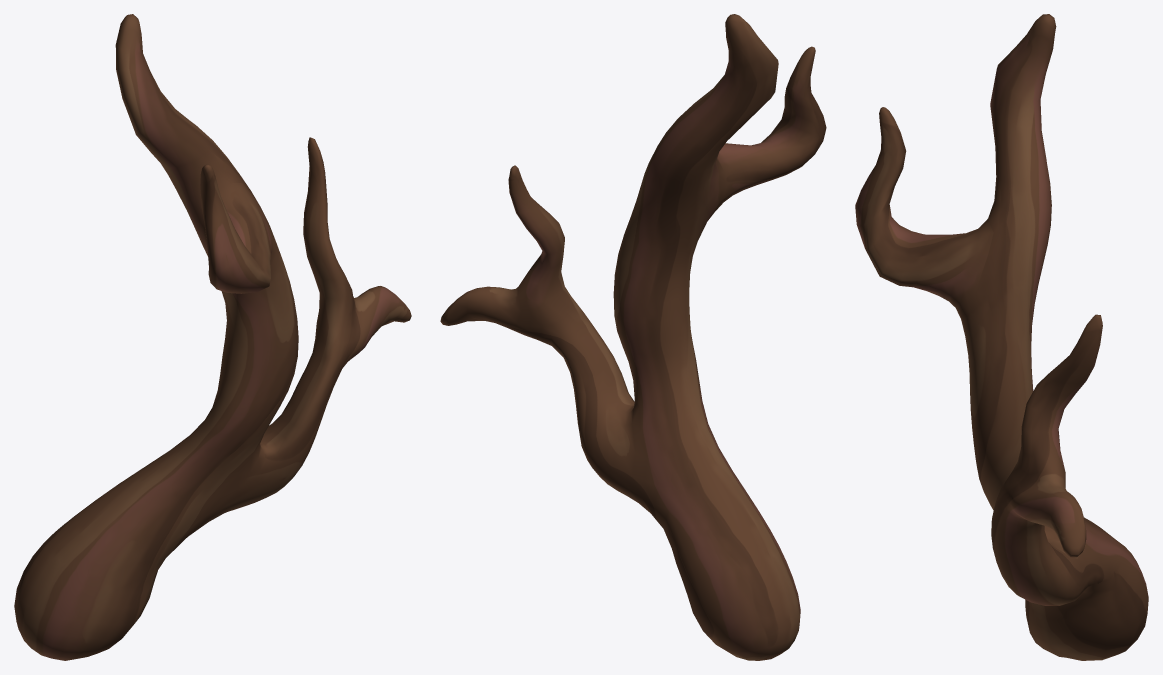
Rendered from AngelBranch2.fbx.
3 renders of one model, left to right at view 1: azimuth 30°, elevation 25°; view 2: azimuth 150°, elevation 25°; view 3: azimuth 270°, elevation 25°, orthographic. The views are drawn at different scales.
Visible parts, largest first — view 1: AngelBranch2; view 2: AngelBranch2; view 3: AngelBranch2.
Boxes of the visible parts, <box> form: AngelBranch2: <box>14,14,411,660</box>; AngelBranch2: <box>440,14,826,660</box>; AngelBranch2: <box>855,14,1148,660</box>.
Bounding box in the file's own units: 244 × 398 × 160.
Materials: 1 (1 with a texture image).
